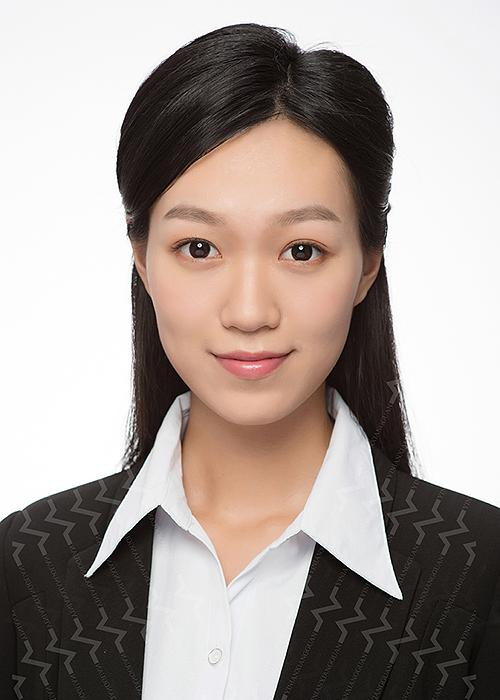unmask: (146, 135, 363, 423)
